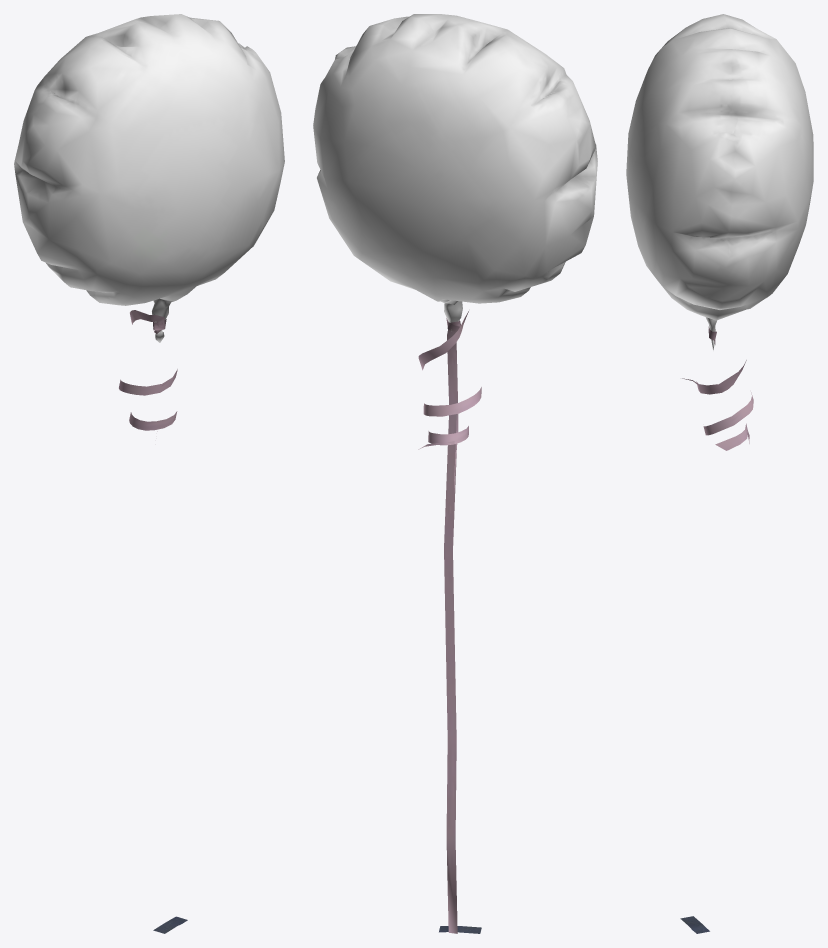
The model's file is circle_balloon.deployed.glb.
3 renders of one model, left to right at view 1: azimuth 30°, elevation 25°; view 2: azimuth 150°, elevation 25°; view 3: azimuth 270°, elevation 25°, orthographic. The views are drawn at different scales.
Visible parts, largest first — view 1: circle_balloon_LOD0; view 2: circle_balloon_LOD0; view 3: circle_balloon_LOD0.
Boxes of the visible parts, x1,y1,x2,y2 form: circle_balloon_LOD0: (14, 14, 284, 933); circle_balloon_LOD0: (313, 14, 597, 933); circle_balloon_LOD0: (626, 14, 813, 933).
Bounding box in the file's own units: 0.5311 × 1.78 × 0.3412.
1 material, 1 textured.
